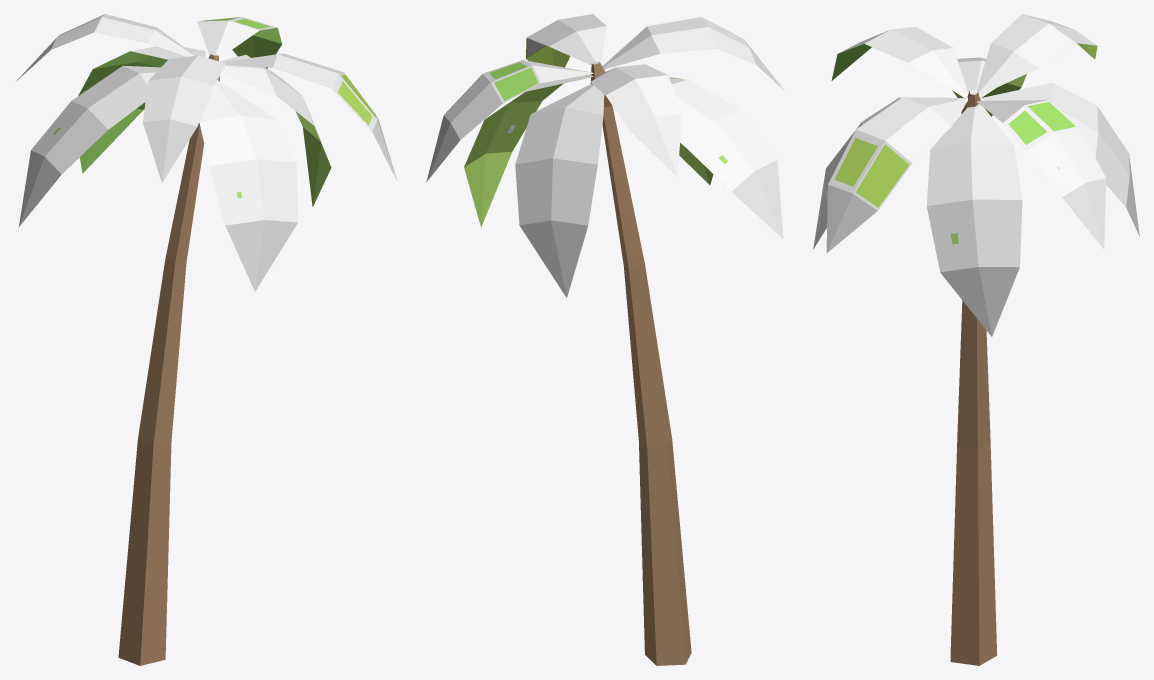
Rendered from Palm_Tree_m_Snow_02.fbx.
The picture shows the model from 3 angles, left to right: view 1: azimuth 30°, elevation 25°; view 2: azimuth 150°, elevation 25°; view 3: azimuth 270°, elevation 25°; orthographic projection. The views are drawn at different scales.
Visible parts, largest first — view 1: Palm_Tree_m_Snow_02; view 2: Palm_Tree_m_Snow_02; view 3: Palm_Tree_m_Snow_02.
Part boxes in pixels (<box>): Palm_Tree_m_Snow_02: <box>16,14,397,665</box>; Palm_Tree_m_Snow_02: <box>426,14,783,665</box>; Palm_Tree_m_Snow_02: <box>813,14,1139,665</box>.
Size of the model in its own units: 334 by 630 by 296.
